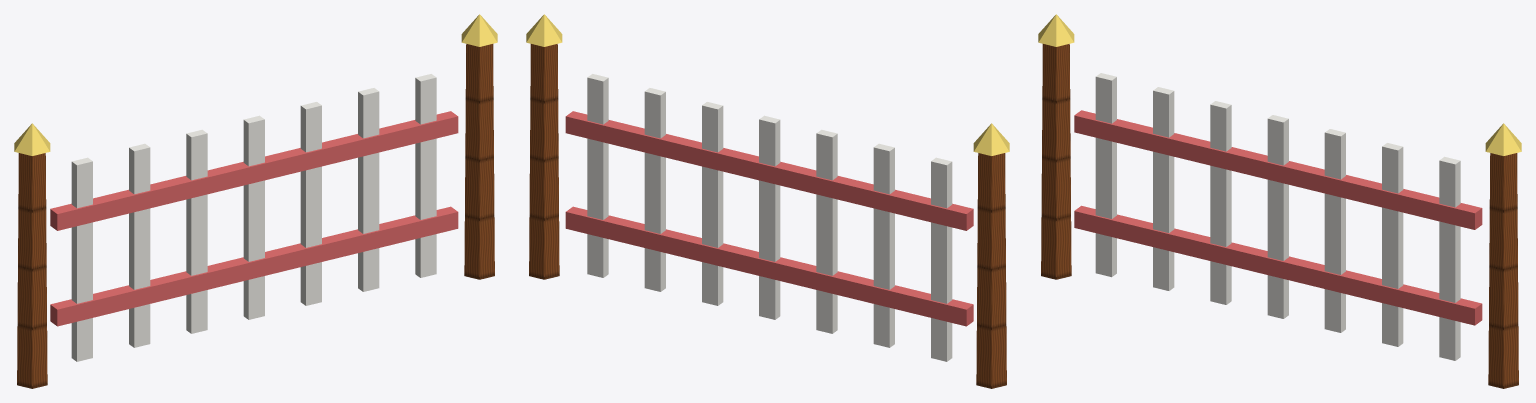
The model's file is travelling-circus-and-big-top-showground-fence-gate-3b66b49c__36241.glb.
3 views of the same model, side by side, from view 1: azimuth 30°, elevation 25°; view 2: azimuth 150°, elevation 25°; view 3: azimuth 330°, elevation 25° (orthographic).
Visible parts, largest first — view 1: gate/canvas, gate/stripe, showground-fence-gate-timber, showground-fence-gate-gold; view 2: gate/canvas, gate/stripe, showground-fence-gate-timber, showground-fence-gate-gold; view 3: gate/canvas, gate/stripe, showground-fence-gate-timber, showground-fence-gate-gold.
Part boxes in pixels (box(x1,y1,x2,y2)): gate/canvas: box(71, 74, 436, 361); gate/stripe: box(50, 111, 458, 326); showground-fence-gate-timber: box(17, 44, 494, 388); showground-fence-gate-gold: box(14, 14, 497, 155); gate/canvas: box(587, 74, 952, 361); gate/stripe: box(565, 111, 973, 326); showground-fence-gate-timber: box(529, 44, 1006, 388); showground-fence-gate-gold: box(526, 14, 1009, 155); gate/canvas: box(1095, 73, 1460, 360); gate/stripe: box(1074, 110, 1482, 325); showground-fence-gate-timber: box(1041, 44, 1518, 388); showground-fence-gate-gold: box(1038, 14, 1521, 155).
Bounding box in the file's own units: 2.7 × 1.38 × 0.173.
4 materials, 1 textured.
